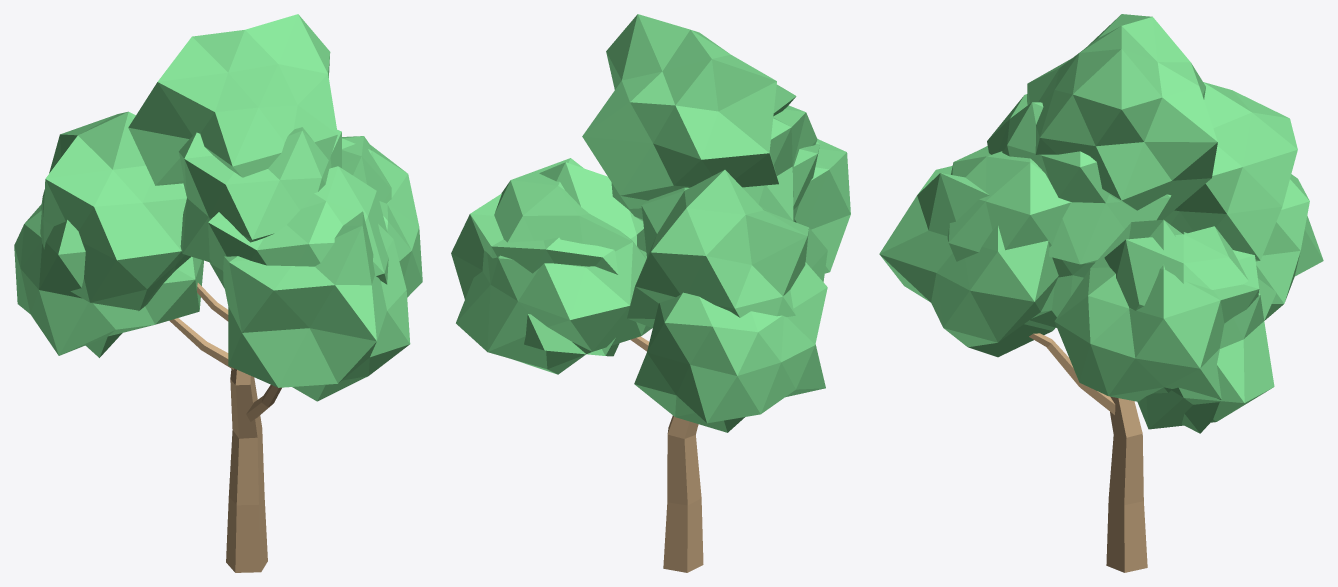
Rendered from Simple_002.fbx.
The picture shows the model from 3 angles, left to right: view 1: azimuth 30°, elevation 25°; view 2: azimuth 150°, elevation 25°; view 3: azimuth 270°, elevation 25°; orthographic projection.
Visible parts, largest first — view 1: Simple.002; view 2: Simple.002; view 3: Simple.002.
Boxes of the visible parts, x1,y1,x2,y2 form: Simple.002: [14, 14, 422, 572]; Simple.002: [451, 14, 850, 572]; Simple.002: [879, 14, 1323, 572].
Bounding box in the file's own units: 5.85 × 8.23 × 6.15.
